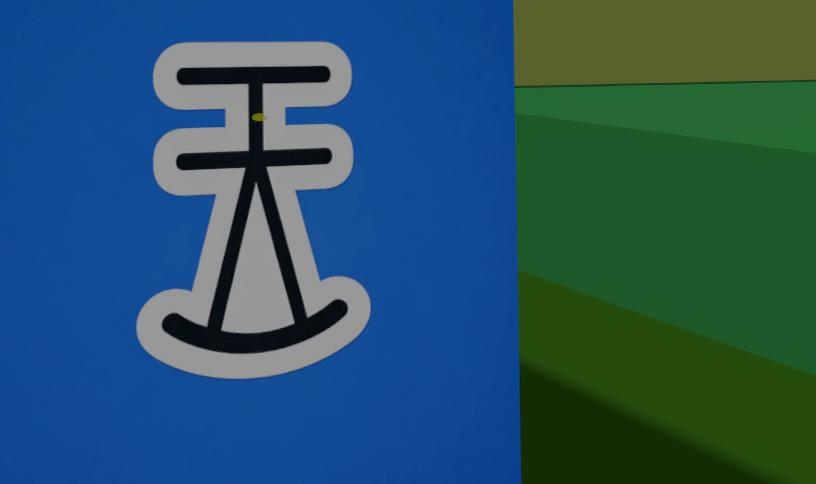KFS_REAL: (0, 0, 519, 483), (138, 42, 370, 378)
